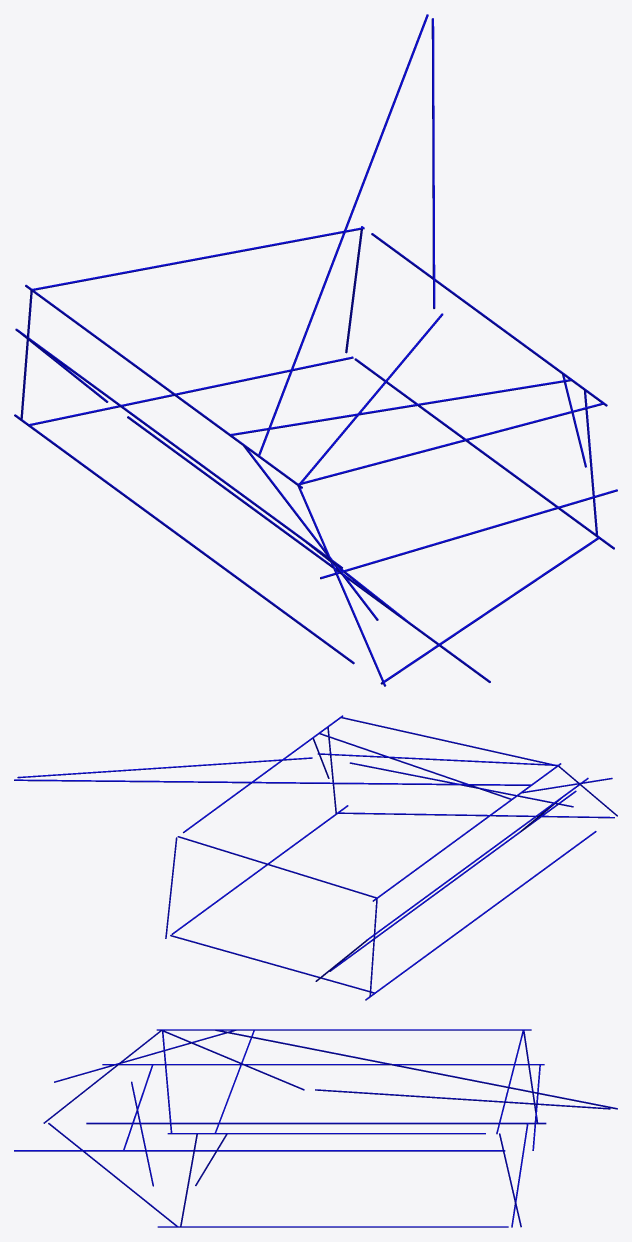
Rendered from corrected_3d_strokes.glb.
3 renders of one model, top to bottom at view 1: azimuth 30°, elevation 25°; view 2: azimuth 150°, elevation 25°; view 3: azimuth 270°, elevation 25°, orthographic. The views are drawn at different scales.
Visible parts, largest first — view 1: world; view 2: world; view 3: world.
Part boxes in pixels (x1,y1,x2,y2): world: (14, 14, 617, 686); world: (14, 715, 617, 1000); world: (14, 1029, 617, 1227).
Size of the model in its own units: 9.02 by 4.62 by 14.88.
